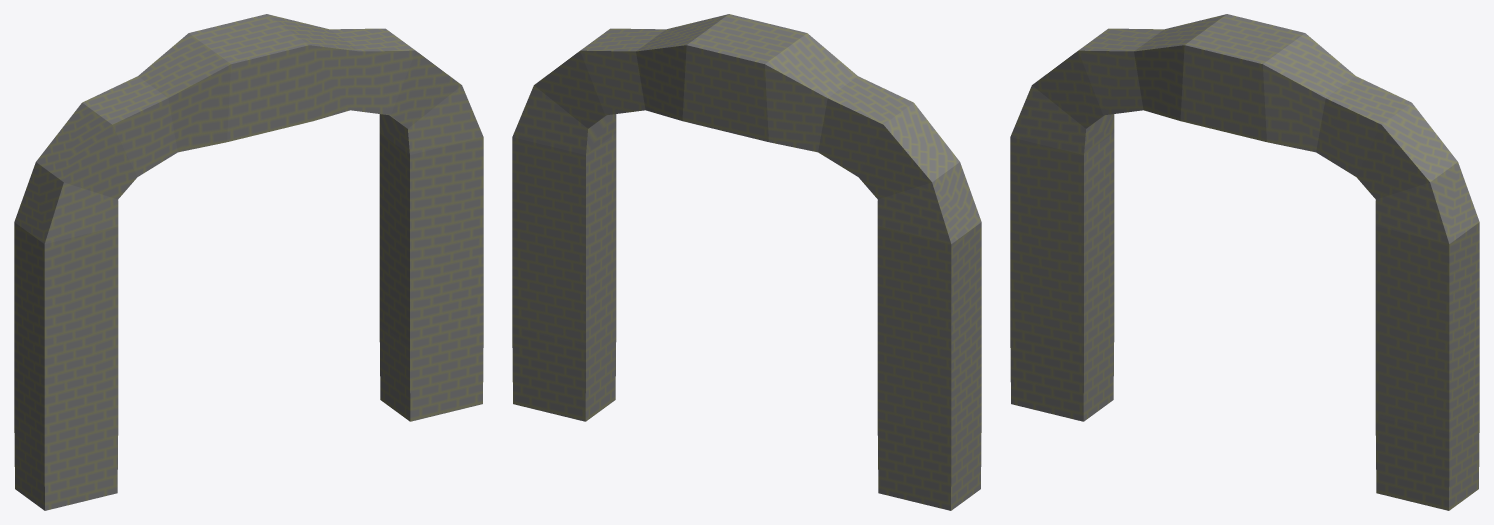
The model's file is Arch.fbx.
3 views of the same model, side by side, from view 1: azimuth 30°, elevation 25°; view 2: azimuth 150°, elevation 25°; view 3: azimuth 330°, elevation 25° (orthographic).
Parts seen in each view (by area): view 1: arch_geo; view 2: arch_geo; view 3: arch_geo.
Part boxes in pixels (box(x1,y1,x2,y2)): arch_geo: box(14, 14, 483, 510); arch_geo: box(512, 14, 981, 510); arch_geo: box(1010, 14, 1479, 510).
Size of the model in its own units: 6.04 by 5.36 by 1.01.
